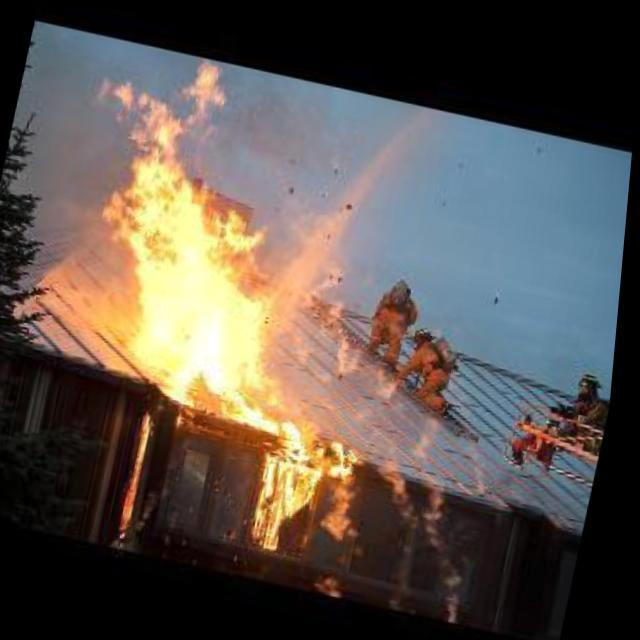fire: (36, 27, 344, 419), (247, 402, 381, 562), (272, 198, 392, 374), (414, 471, 494, 611), (371, 420, 443, 524), (112, 400, 164, 540), (411, 395, 454, 465), (465, 428, 507, 488), (368, 350, 408, 400)
